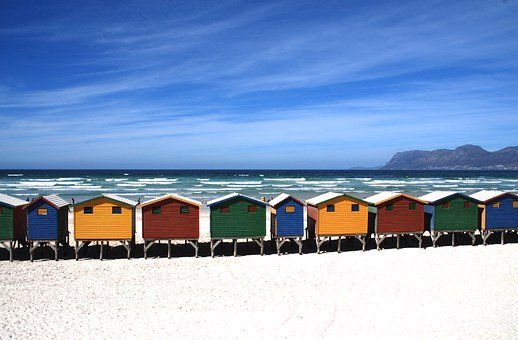beach: (2, 167, 517, 339)
sky: (1, 4, 514, 167)
